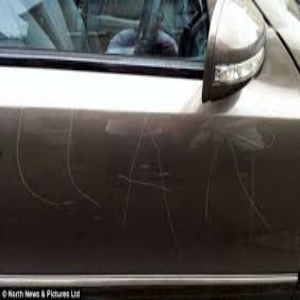door_scratch: (13, 105, 284, 253)
